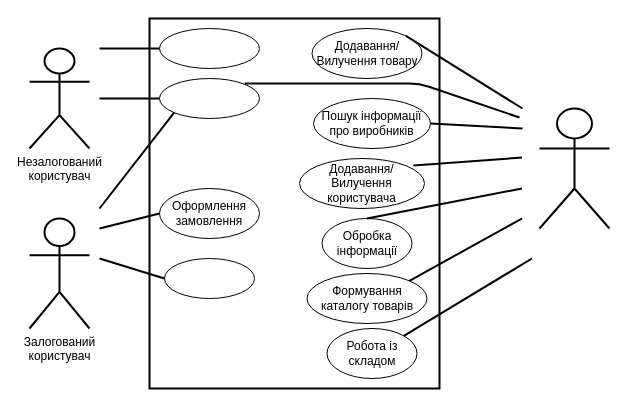
Image size: 631x406. Some labels were removed from this diagram. Here are the shapes that lost their labels. From the top down, the centre of each, then its label:
the point at 209,48: Вхід в систему
the point at 209,98: Перегляд товару
the point at 574,168: Адміністратор
the point at 209,278: Оплата замовлення
